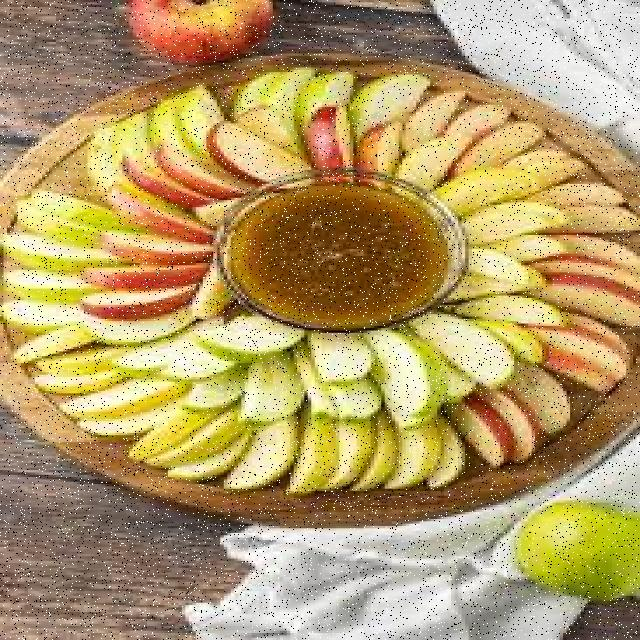Apple: (514, 499, 640, 604), (126, 0, 278, 62), (198, 110, 299, 187), (526, 315, 624, 389), (105, 184, 210, 248), (224, 407, 301, 491), (416, 316, 511, 383), (439, 386, 507, 472), (374, 332, 442, 417), (100, 222, 226, 266), (545, 271, 640, 328), (192, 310, 301, 356), (453, 285, 570, 327), (427, 162, 521, 210), (15, 195, 100, 248), (462, 200, 564, 244), (516, 361, 573, 436), (531, 251, 640, 290), (282, 411, 332, 492), (297, 96, 353, 168), (77, 255, 210, 285), (507, 140, 591, 187), (162, 143, 238, 194), (231, 101, 304, 154), (48, 388, 178, 417), (117, 161, 198, 207), (404, 140, 472, 194), (538, 196, 640, 232), (243, 361, 303, 422), (35, 186, 119, 229), (74, 288, 194, 318), (430, 420, 478, 495), (7, 324, 96, 364), (26, 365, 133, 398), (168, 435, 250, 478), (79, 316, 194, 346), (330, 408, 372, 490), (535, 172, 630, 208), (360, 68, 418, 125), (353, 415, 397, 490), (354, 115, 401, 185), (61, 408, 187, 434), (142, 422, 232, 458), (310, 332, 374, 382), (173, 83, 224, 142), (7, 231, 96, 264), (554, 227, 640, 261), (79, 122, 122, 190), (392, 420, 432, 493), (409, 84, 464, 137), (477, 118, 535, 168), (573, 315, 640, 358), (178, 376, 246, 418), (0, 265, 84, 299), (0, 294, 68, 332), (492, 315, 548, 361), (471, 248, 538, 286), (506, 386, 538, 464), (114, 342, 196, 370), (330, 380, 383, 422), (130, 419, 186, 458), (269, 60, 315, 106), (437, 357, 481, 404), (495, 237, 575, 262), (119, 107, 156, 159), (448, 100, 498, 137), (161, 352, 227, 380), (301, 72, 353, 105), (41, 352, 122, 372), (304, 377, 339, 420), (231, 71, 271, 105), (156, 98, 183, 144)
